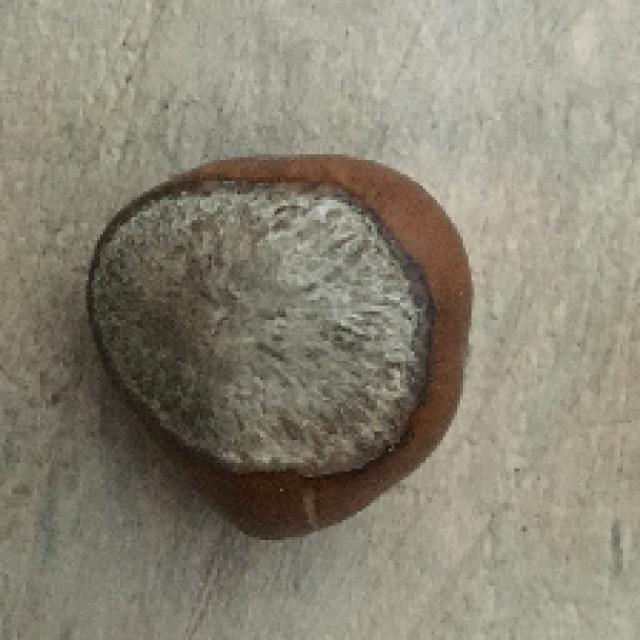qualityHazelnut: (87, 153, 484, 549)
